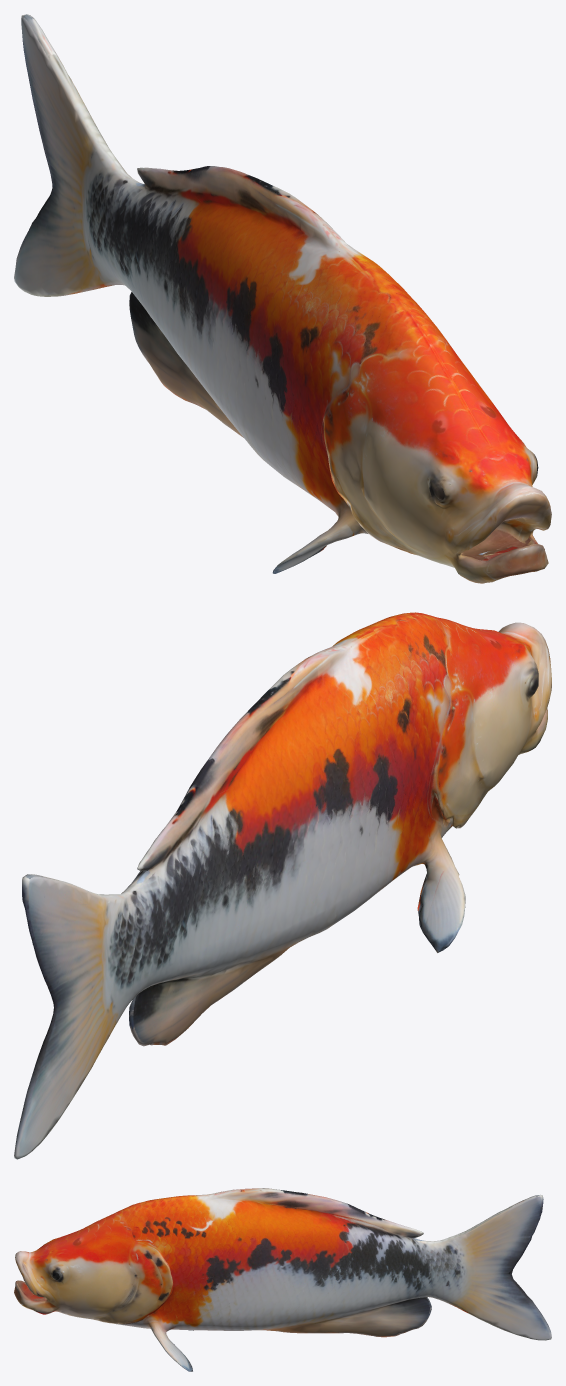
File: Koi__0604063850_texture.glb
3 views of the same model, one above another, from view 1: azimuth 30°, elevation 25°; view 2: azimuth 150°, elevation 25°; view 3: azimuth 270°, elevation 25° (orthographic). The views are drawn at different scales.
Size of the model in its own units: 0.4155 by 0.6646 by 1.99.
1 material, 1 textured.
